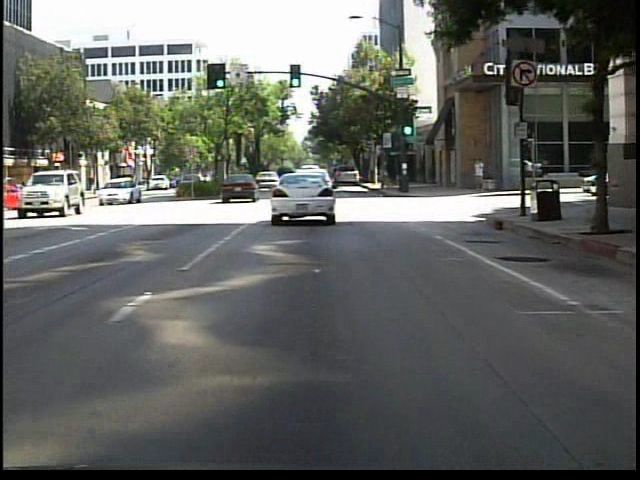person: (472, 156, 488, 195)
